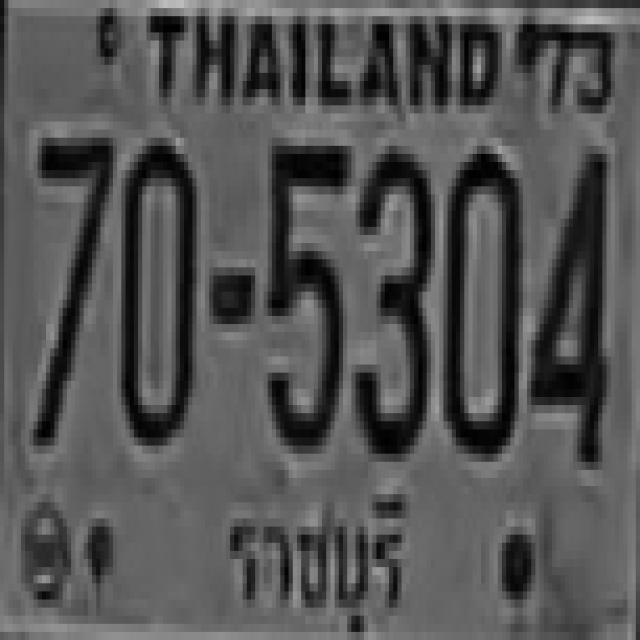0: (443, 142, 519, 450), (117, 130, 193, 438)
3: (351, 138, 431, 454)
4: (527, 142, 602, 458)
5: (264, 137, 343, 446)
7: (33, 130, 109, 438)
Ratchaburi: (218, 462, 418, 640)
